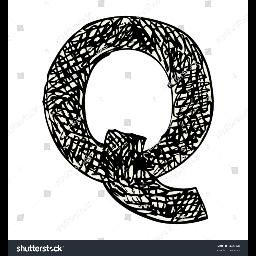q: (38, 8, 210, 230)
